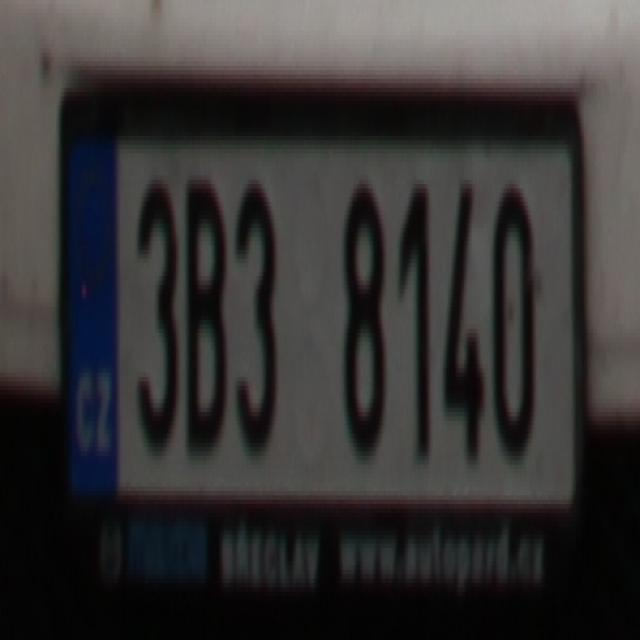0: (492, 175, 538, 469)
1: (395, 175, 433, 469)
3: (232, 175, 280, 456), (132, 170, 178, 452)
4: (440, 171, 488, 465)
8: (340, 162, 386, 465)
B: (178, 170, 226, 452)
